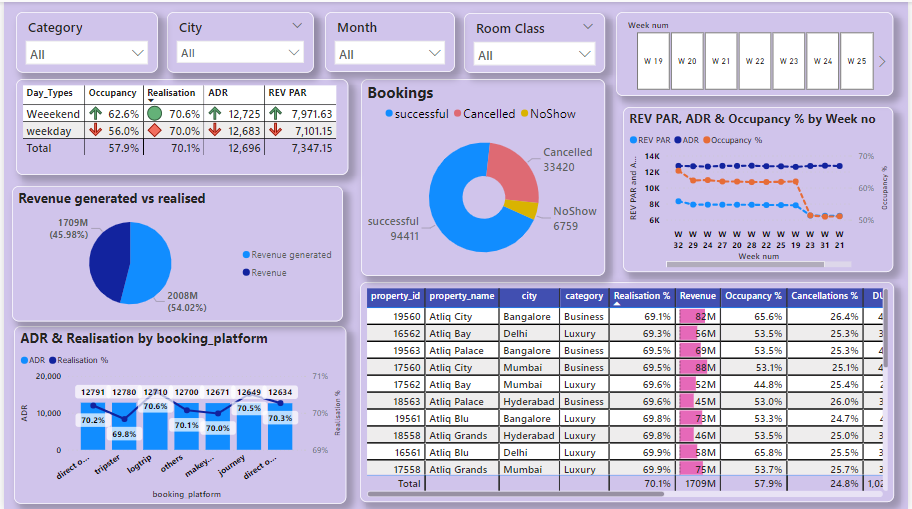

The dashboard page shown, as its layout file describes it:
{"tool":"powerbi","page":{"name":"Dashboard","canvas":[1280,720],"ordinal":1},"visuals":[{"type":"lineStackedColumnComboChart","title":"ADR & Realisation  by booking_platform","fields":{"Category":["fact_bookings.booking_platform"],"Y":["fact_bookings.ADR"],"Y2":["fact_bookings.Realisation %"]},"box":[13.7,459.7,471.1,252.5],"z":0},{"type":"pieChart","title":"Revenue generated vs realised","fields":{"Y":["fact_bookings.Revenue generated","fact_bookings.Revenue"]},"box":[12,260.2,469.4,191.7],"z":1000},{"type":"slicer","fields":{"Values":["dim_hotels.city"]},"box":[231,14.2,208.3,86.5],"z":1210},{"type":"tableEx","fields":{"Values":["dim_hotels.property_id","dim_hotels.property_name","dim_hotels.city","dim_hotels.category","fact_bookings.Realisation %","fact_bookings.Revenue relaised","fact_aggregated_bookings.Occupancy %","fact_bookings.Cancellations %","fact_aggregated_bookings.DURN","fact_aggregated_bookings.DBRN","dim_date.DSRN","fact_bookings.Total bookings"]},"box":[504.7,397.4,757.3,311.7],"z":2000},{"type":"slicer","fields":{"Values":["dim_date.Week num"]},"box":[868.1,13.6,392.6,119.1],"z":3000},{"type":"slicer","fields":{"Values":["dim_hotels.category"]},"box":[17,14.2,201.3,86.5],"z":4000},{"type":"slicer","fields":{"Values":["dim_rooms.room_class"]},"box":[652,15.6,199.8,85],"z":6000},{"type":"donutChart","title":"Bookings","fields":{"Y":["fact_bookings.sucessfull Bookings","fact_bookings.Cancelled Bookings","fact_bookings.NoShow Bookings"]},"box":[506.3,109.1,346.2,279],"z":7000},{"type":"slicer","fields":{"Values":["dim_date.mmm yy"]},"box":[455,14.2,184.3,85],"z":8000},{"type":"lineChart","title":"REV PAR, ADR & Occupancy % by Week no","fields":{"Y":["fact_aggregated_bookings.REV PAR","fact_bookings.ADR"],"Y2":["fact_aggregated_bookings.Occupancy %"],"Category":["dim_date.Week num"]},"box":[878,149.4,382.7,233.9],"z":9000},{"type":"tableEx","fields":{"Values":["dim_date.Day_Types","fact_aggregated_bookings.Occupancy %","fact_bookings.Realisation %","fact_bookings.ADR","fact_aggregated_bookings.REV PAR"]},"box":[17,109.1,471.1,135.6],"z":10000}]}

Visuals, with their boxes in screenshot pixels (x1, y1, x2, y2), scaled from the page's 1280x720 canvas onto the 912x509 screenshot:
"ADR & Realisation  by booking_platform" lineStackedColumnComboChart: box(10, 325, 345, 503)
"Revenue generated vs realised" pieChart: box(9, 184, 343, 319)
slicer - dim_hotels.city: box(165, 10, 313, 71)
tableEx - dim_hotels.property_id x dim_hotels.property_name: box(360, 281, 899, 501)
slicer - dim_date.Week num: box(619, 10, 898, 94)
slicer - dim_hotels.category: box(12, 10, 156, 71)
slicer - dim_rooms.room_class: box(465, 11, 607, 71)
"Bookings" donutChart: box(361, 77, 607, 274)
slicer - dim_date.mmm yy: box(324, 10, 456, 70)
"REV PAR, ADR & Occupancy % by Week no" lineChart: box(626, 106, 898, 271)
tableEx - dim_date.Day_Types x fact_aggregated_bookings.Occupancy %: box(12, 77, 348, 173)
